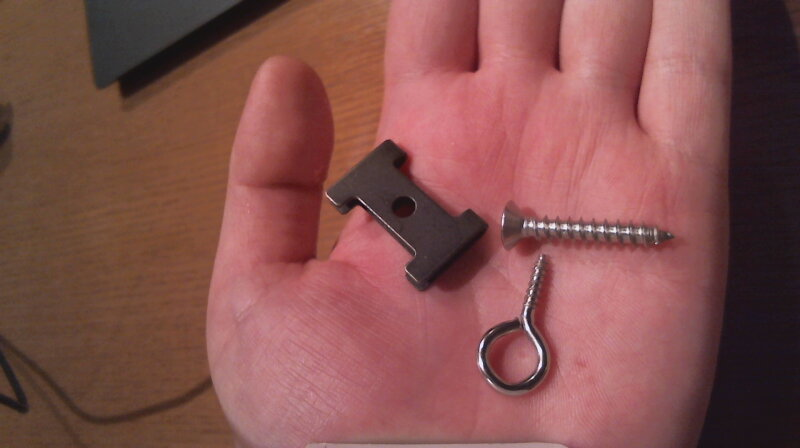O001: (475, 252, 556, 396)
O002: (325, 136, 491, 289)
S001: (496, 199, 682, 257)
